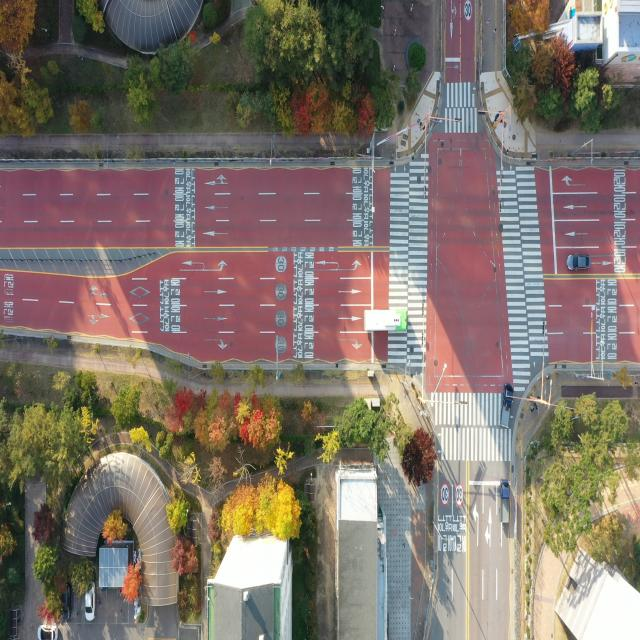car: (84, 587, 96, 621), (566, 254, 590, 270)
large_bus: (362, 309, 408, 332)
small_truck: (500, 382, 514, 430), (500, 482, 510, 522)
